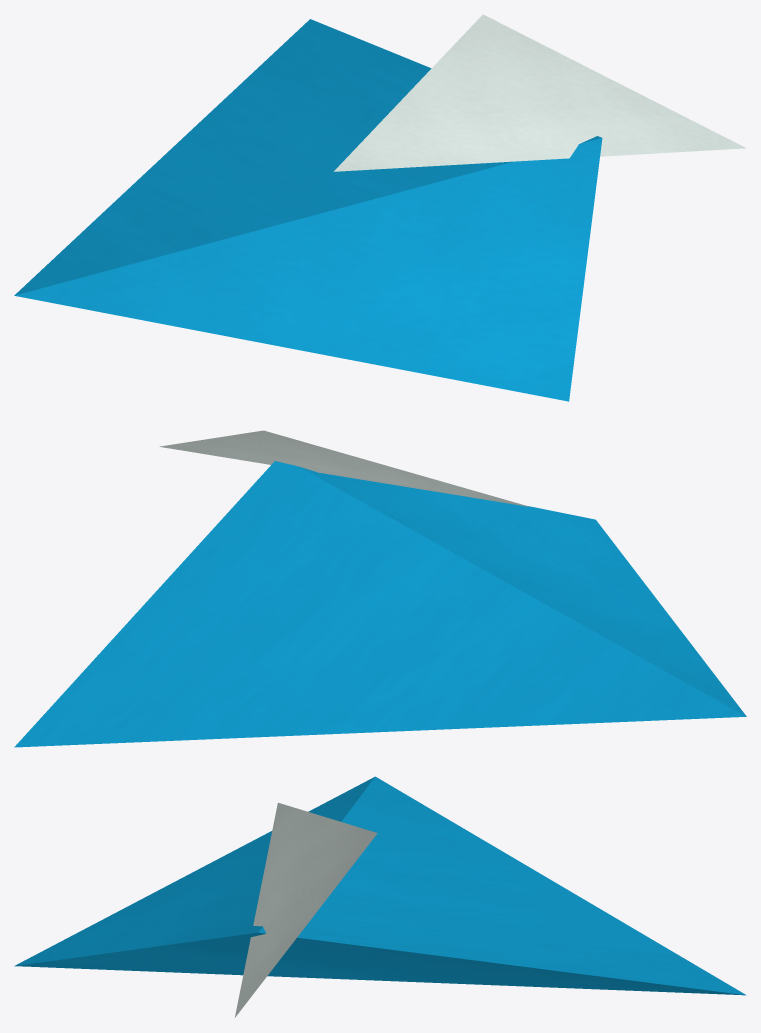
File: SM_stun_spark_LOD2.fbx
3 renders of one model, top to bottom at view 1: azimuth 30°, elevation 25°; view 2: azimuth 150°, elevation 25°; view 3: azimuth 270°, elevation 25°, orthographic. The views are drawn at different scales.
Visible parts, largest first — view 1: SM_stun_spark_LOD2; view 2: SM_stun_spark_LOD2; view 3: SM_stun_spark_LOD2.
Part boxes in pixels (left/top/right/bottom): SM_stun_spark_LOD2: left=14, top=14, right=746, bottom=401; SM_stun_spark_LOD2: left=14, top=430, right=746, bottom=747; SM_stun_spark_LOD2: left=14, top=776, right=746, bottom=1017.
Size of the model in its own units: 0.1893 by 0.2074 by 0.0576.
